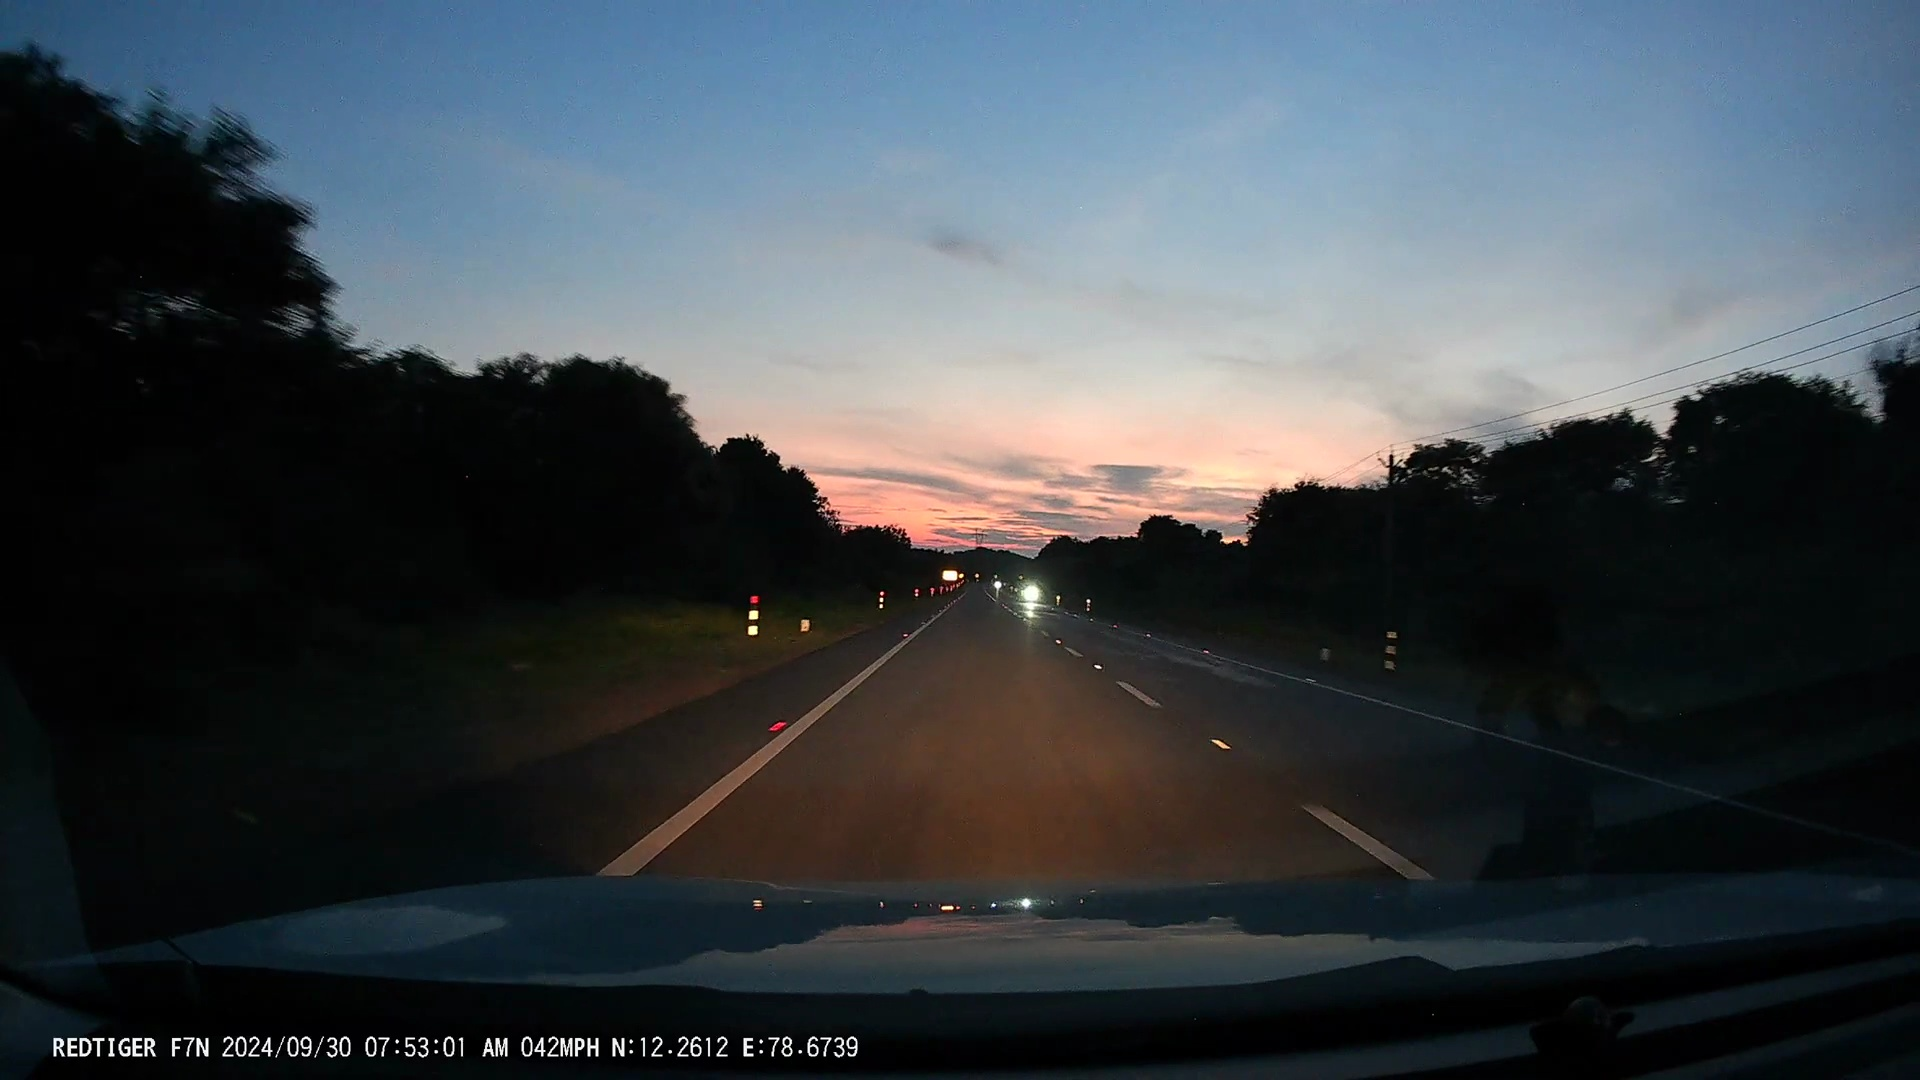headlight: (1025, 585, 1039, 600), (994, 582, 1000, 589)
two wheeler: (1021, 575, 1044, 611), (988, 570, 1004, 596)
